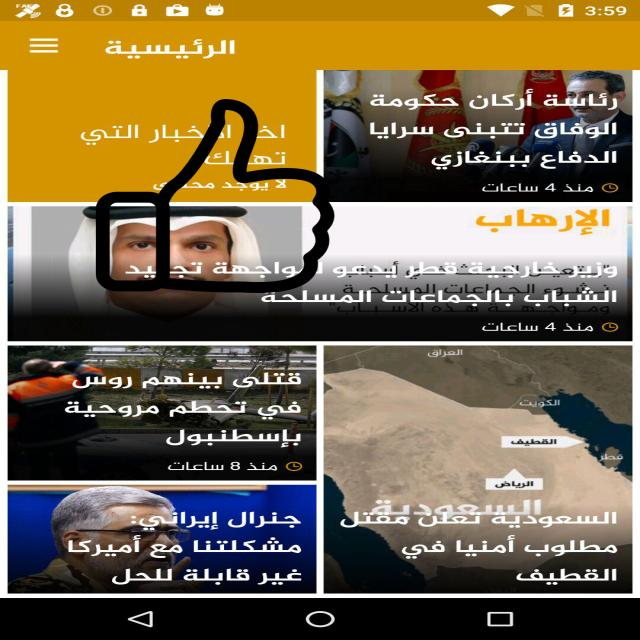privacy zuckering: (92, 99, 338, 293)
